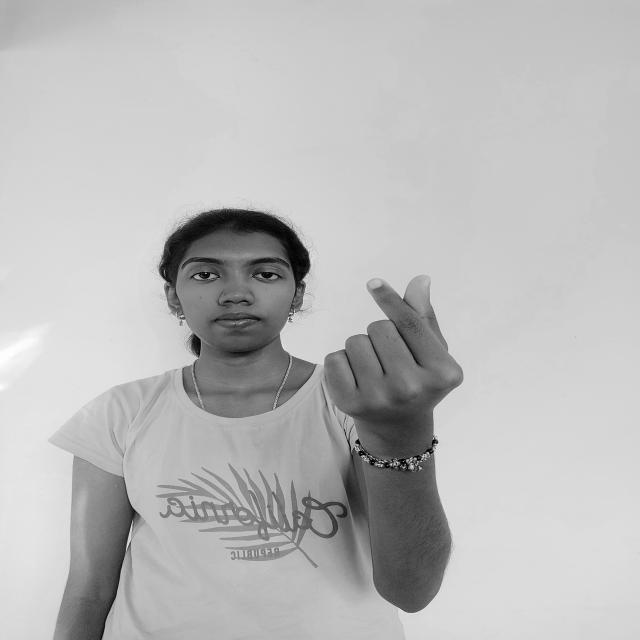Grattitude: (317, 268, 477, 437)
